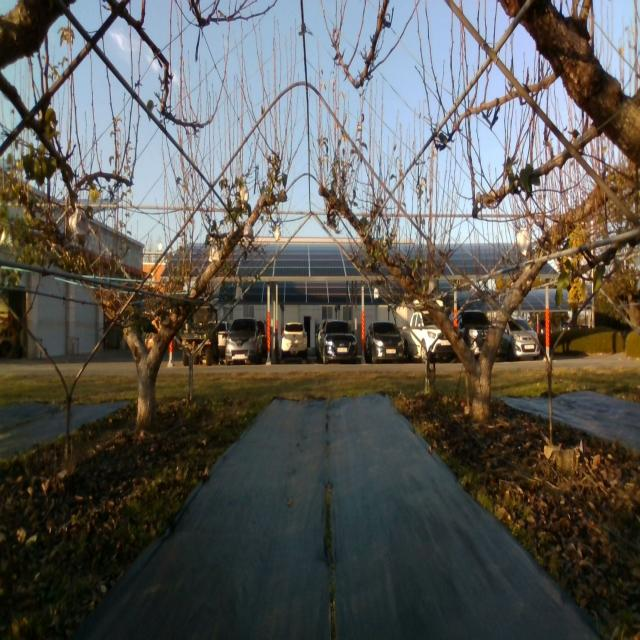pearbags: (68, 208, 89, 249), (516, 228, 530, 257), (208, 244, 220, 263), (244, 222, 254, 242)
